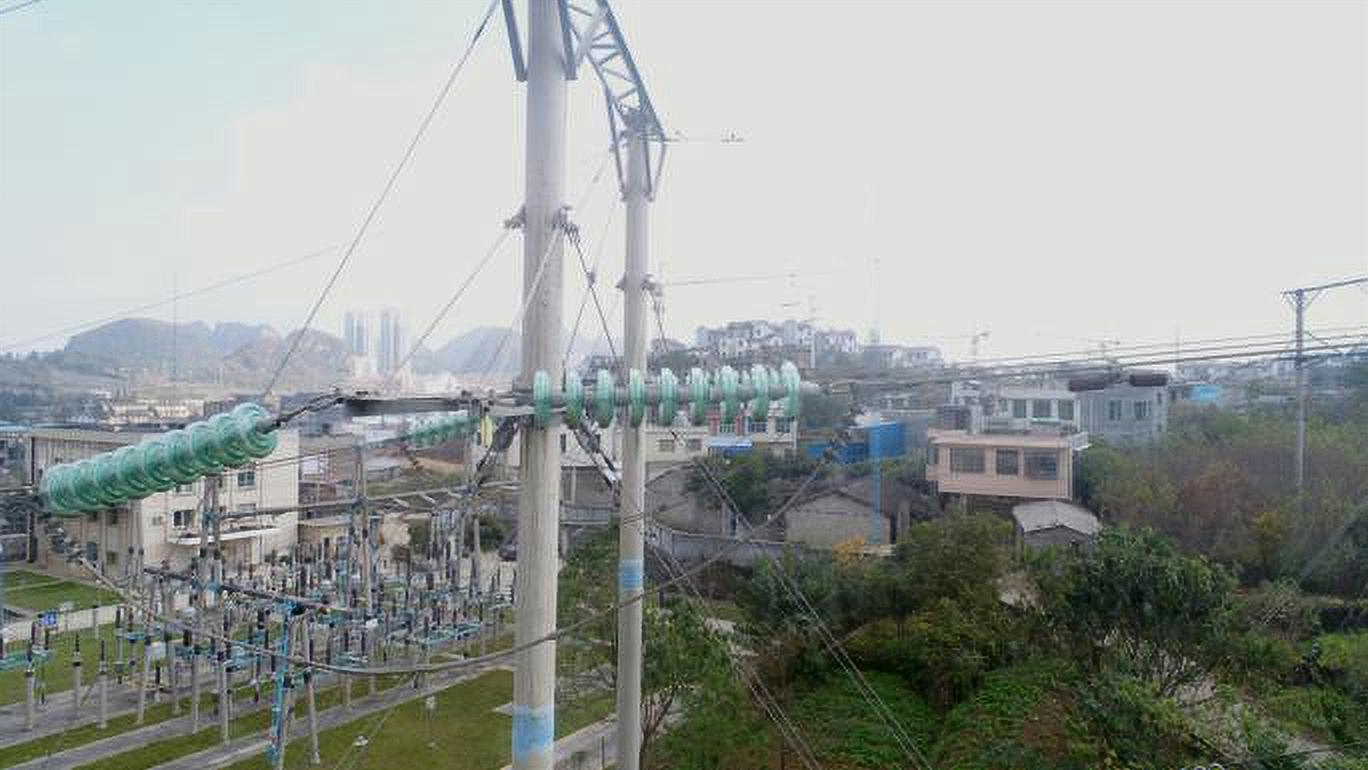insulator: (35, 399, 282, 524), (526, 358, 806, 437), (404, 408, 482, 453)
